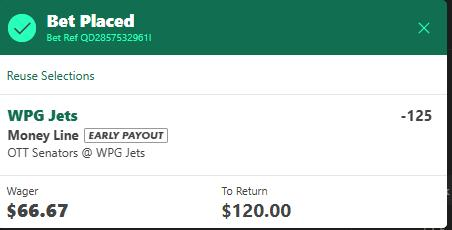game: (5, 145, 149, 161)
odds: (400, 107, 434, 122)
payout: (222, 201, 292, 222)
wager: (6, 202, 78, 222)
